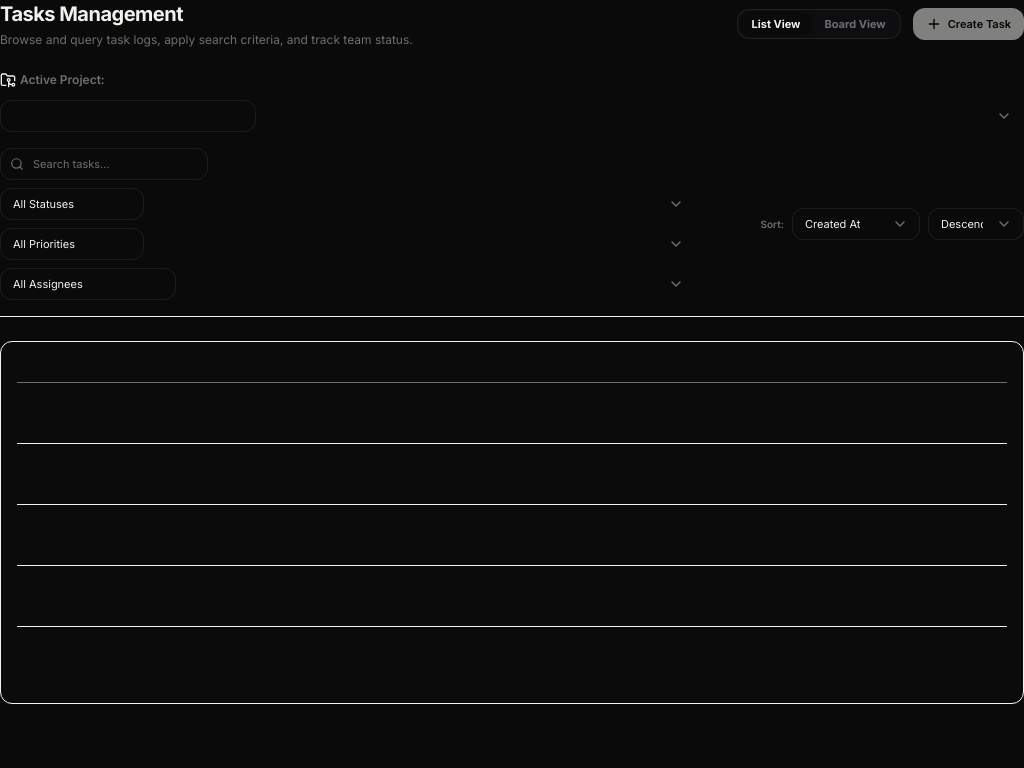
TasksListPage › should switch to Kanban Board view and render columns
Click the button "Board View". click: [855, 24]
box: [812,12,898,36]
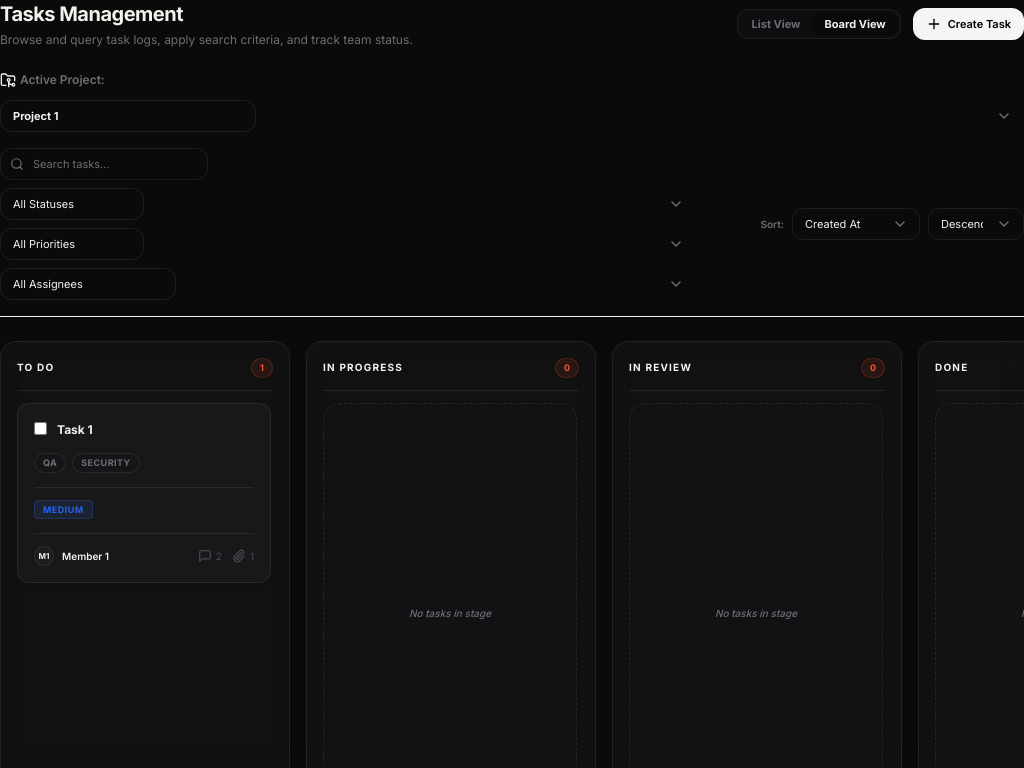
expect the heading "To Do" is shown: met, box [17,360,54,375]
expect the heading "In Progress" is shown: met, box [323,360,403,375]
expect the heading "In Review" is shown: met, box [629,360,692,375]
